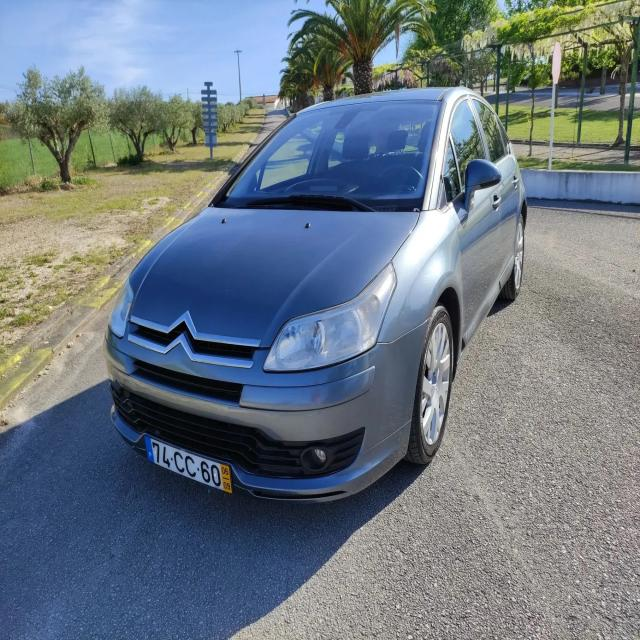portuguese-license-plates: (143, 434, 236, 498)
